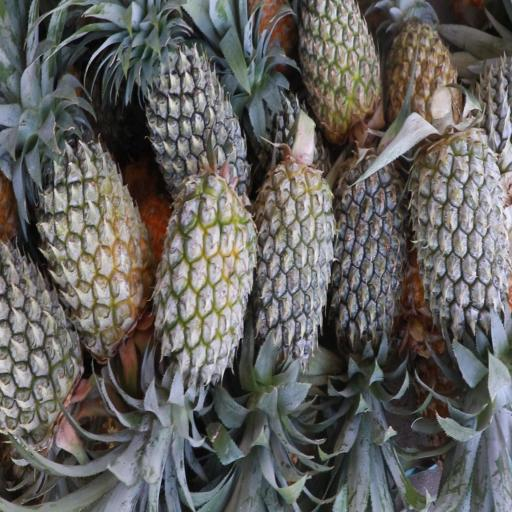------------------------------: (40, 131, 150, 342), (159, 176, 255, 382), (298, 0, 380, 134), (387, 2, 460, 146)
